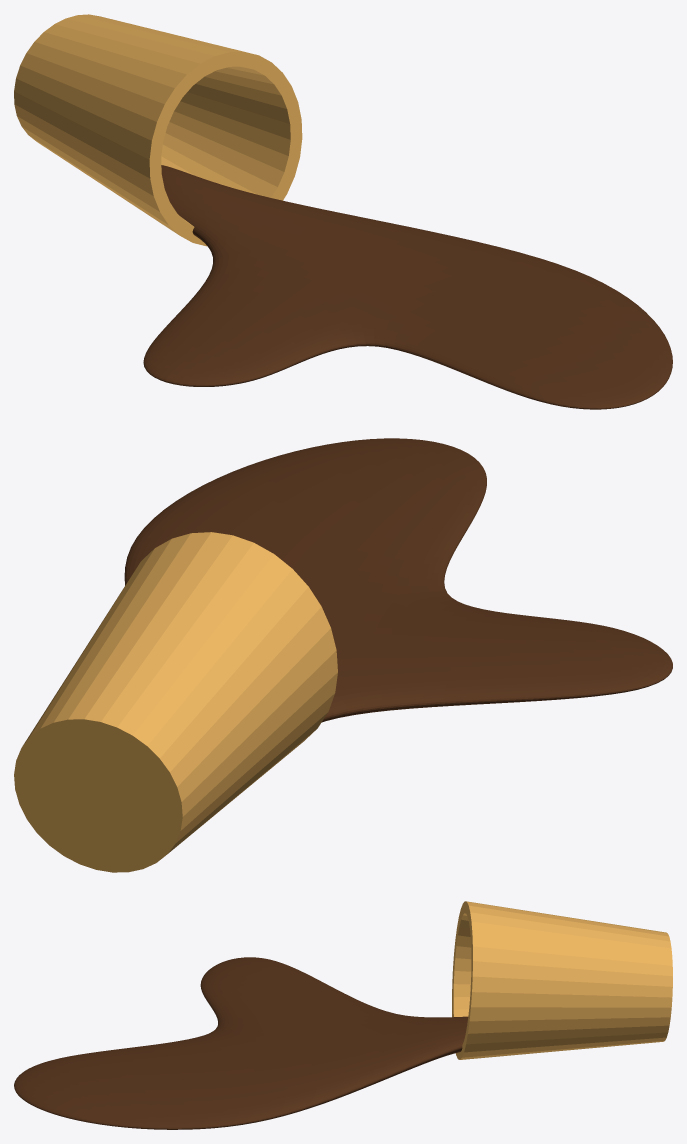
Rendered from caffe.fbx.
3 renders of one model, top to bottom at view 1: azimuth 30°, elevation 25°; view 2: azimuth 150°, elevation 25°; view 3: azimuth 270°, elevation 25°, orthographic. The views are drawn at different scales.
Visible parts, largest first — view 1: Plane.003, Cylinder.002; view 2: Cylinder.002, Plane.003; view 3: Plane.003, Cylinder.002.
Part boxes in pixels (box(x1,y1,x2,y2)): Plane.003: box(143, 165, 672, 409); Cylinder.002: box(14, 14, 302, 246); Cylinder.002: box(14, 532, 337, 872); Plane.003: box(124, 438, 672, 722); Plane.003: box(14, 957, 468, 1129); Cylinder.002: box(452, 901, 672, 1059).
Size of the model in its own units: 61.67 by 24.65 by 102.
